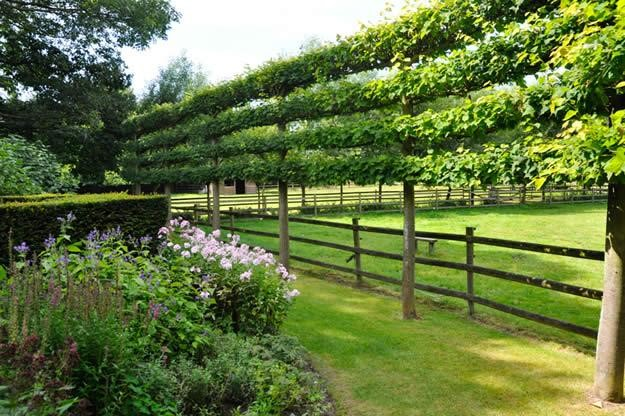grass: (228, 203, 623, 411)
tree: (594, 181, 623, 400), (401, 179, 418, 321), (277, 182, 289, 275), (212, 181, 221, 235)
